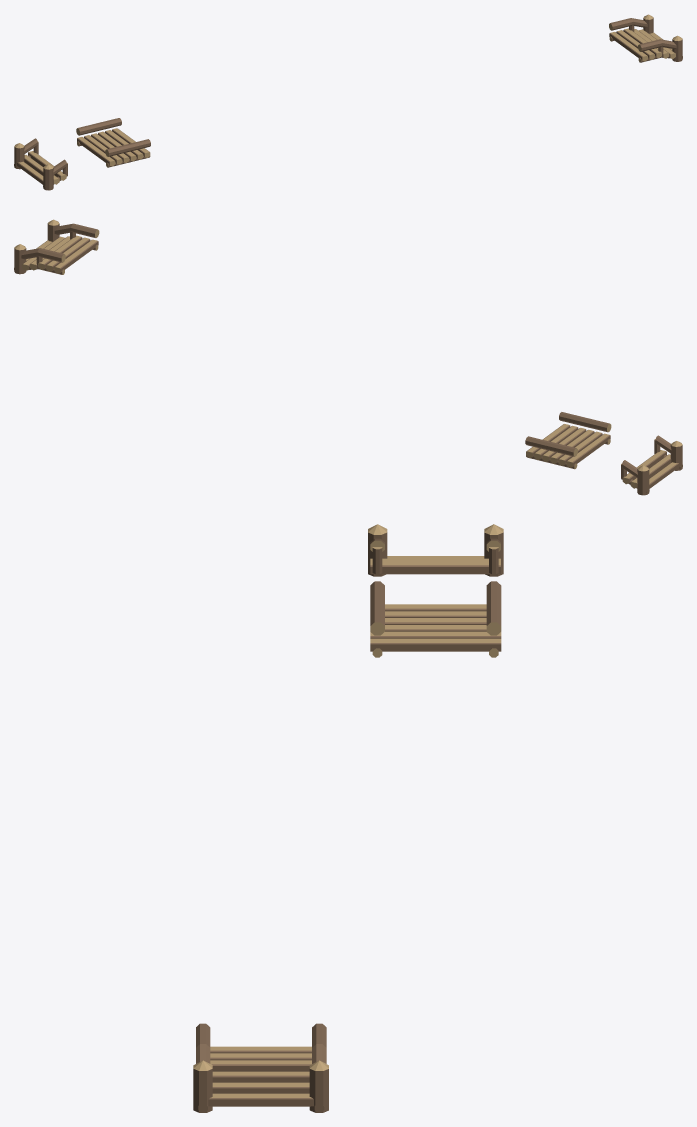
The model's file is BridgeCenter.fbx.
3 renders of one model, top to bottom at view 1: azimuth 30°, elevation 25°; view 2: azimuth 150°, elevation 25°; view 3: azimuth 270°, elevation 25°, orthographic. The views are drawn at different scales.
Parts seen in each view (by area): view 1: mergedBlocks; view 2: mergedBlocks; view 3: mergedBlocks.
Boxes of the visible parts, x1,y1,x2,y2 form: mergedBlocks: (14,14,682,190); mergedBlocks: (14,219,682,495); mergedBlocks: (193,524,503,1112).
Size of the model in its own units: 283 by 19.01 by 64.
